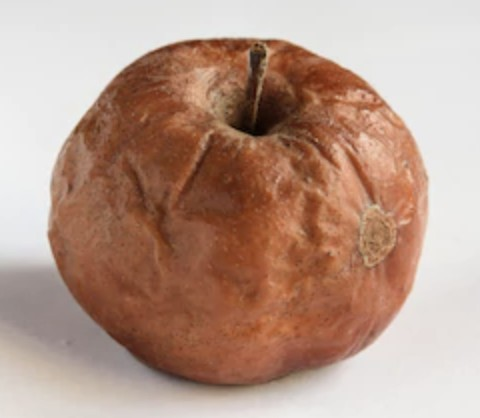rotten_apple: (47, 37, 429, 388)
